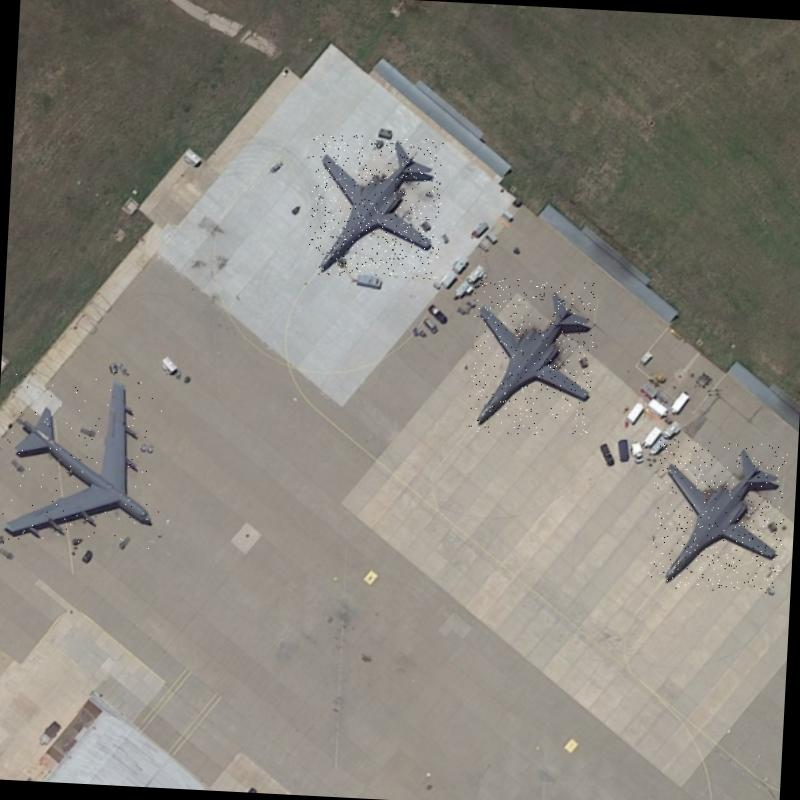A10: (648, 438, 788, 594), (468, 276, 596, 438), (306, 133, 444, 281)
A8: (0, 372, 166, 552)
